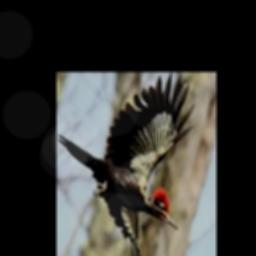Woodpecker: (57, 71, 195, 256)
